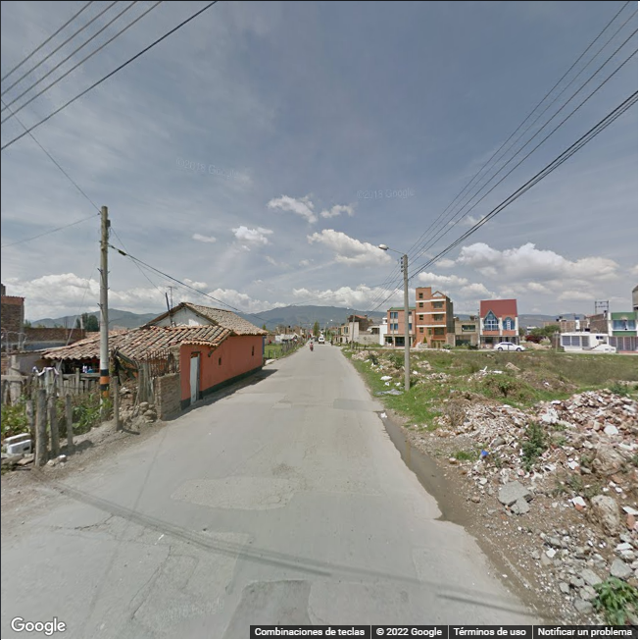D00: (117, 543, 175, 615), (405, 535, 423, 583), (181, 552, 201, 589)
D40: (59, 514, 109, 536)
